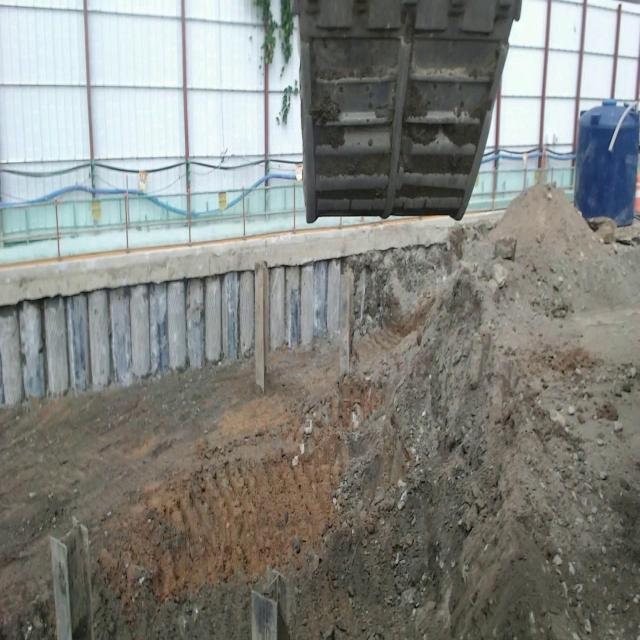red-sand: (0, 186, 640, 639)
